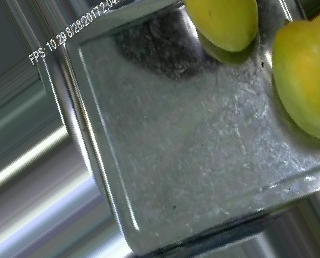Mango: (271, 18, 320, 140), (182, 0, 257, 53)
